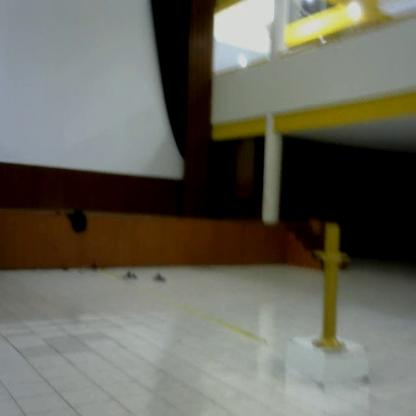pole: (309, 221, 357, 356)
